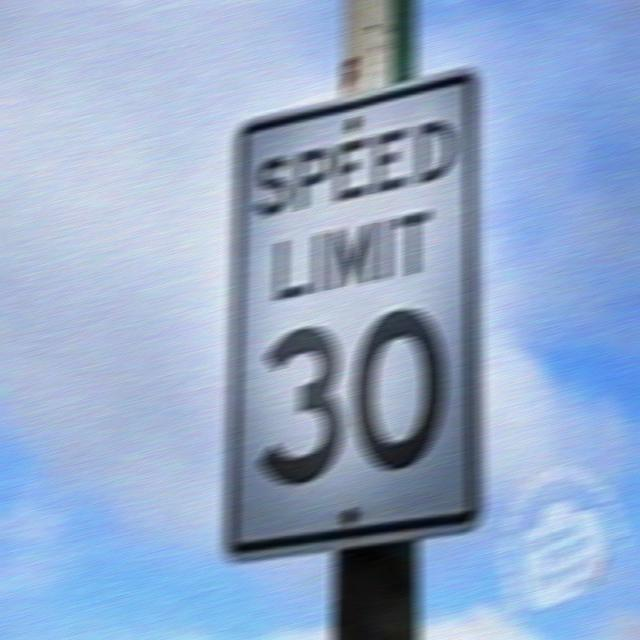speedLimit30: (227, 118, 478, 529)
